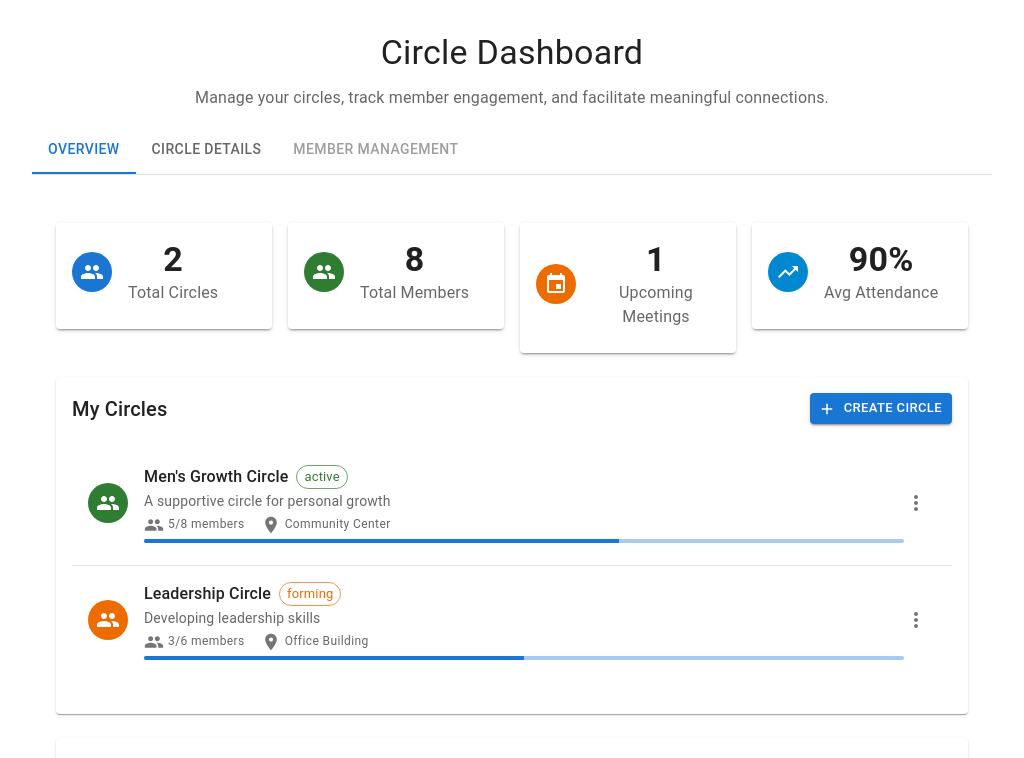
it: CircleDashboard › Circle Selection and Detail View › should show info message when no circle is selected in detail view
Switch to detail tab without selecting a circle
Click the tab "Circle Details".
click(206, 150)  # box [136,126,277,174]
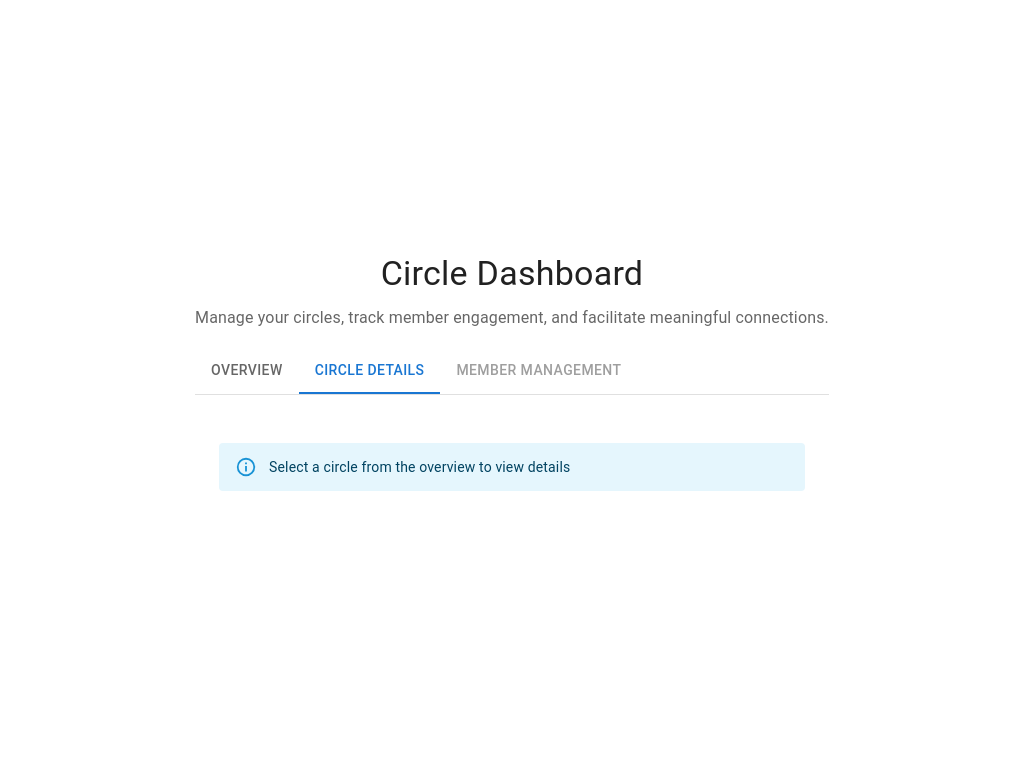
Result: the text "Select a circle from the overview to view details" is shown at [269,459,570,475]
